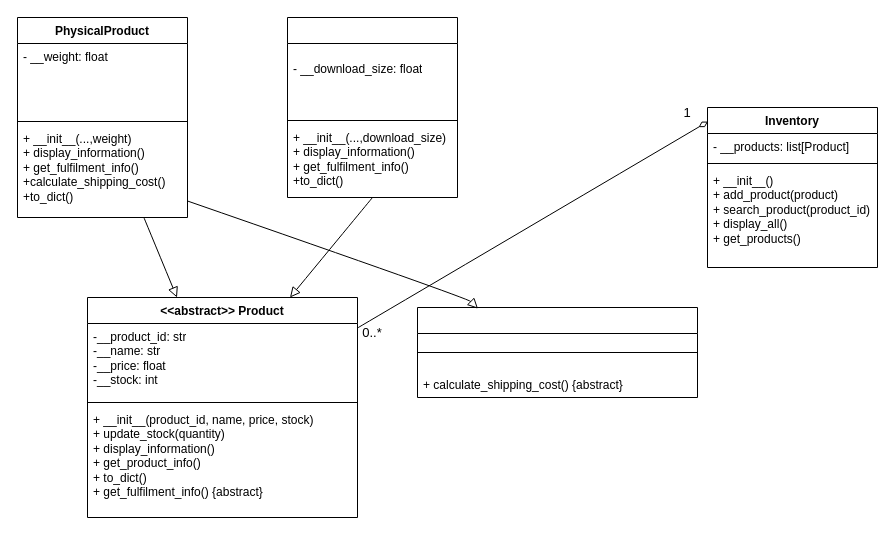
This 895x538 diagram has some shape labels left out. Here are the shapes that lost their labels. From the top down, the box of each, then its label:
(286, 16, 458, 198): DigitalProduct
(416, 306, 698, 398): <<>> CanBeShipped
